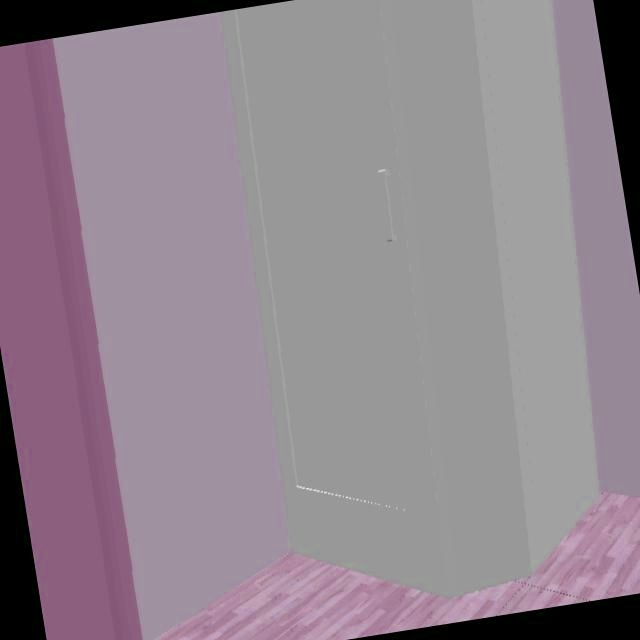shower: (218, 0, 602, 601)
